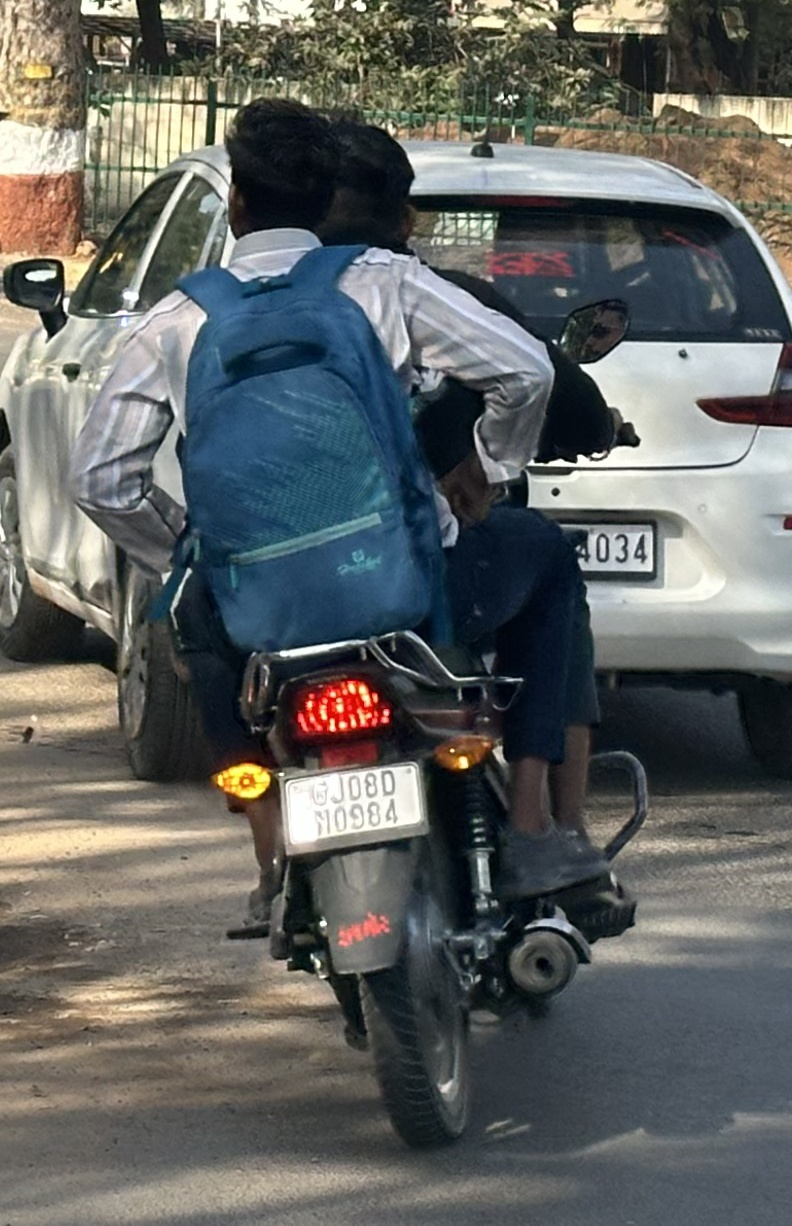BikeWithRider: (56, 81, 669, 1156)
NoHelmet: (214, 92, 350, 261), (319, 110, 435, 266)
